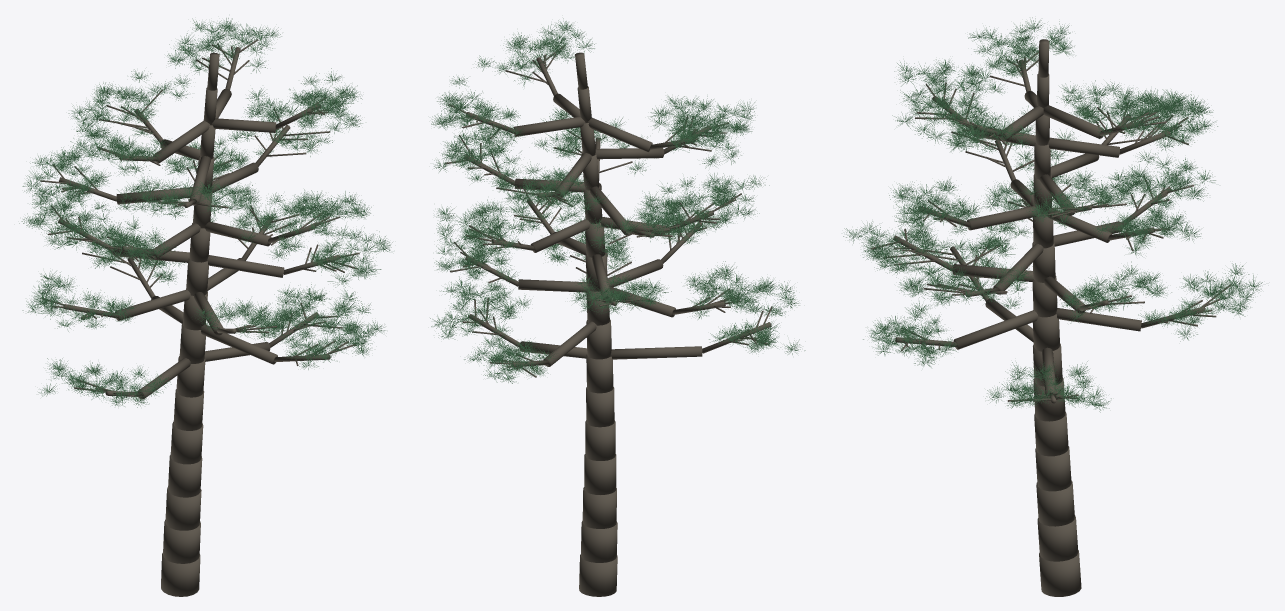
File: Production_CoastalPine_0.glb
3 renders of one model, left to right at view 1: azimuth 30°, elevation 25°; view 2: azimuth 150°, elevation 25°; view 3: azimuth 270°, elevation 25°, orthographic. The views are drawn at different scales.
Visible parts, largest first — view 1: Production_CoastalPine_0_Landscape_Needles, Production_CoastalPine_0_Landscape_PineBark; view 2: Production_CoastalPine_0_Landscape_Needles, Production_CoastalPine_0_Landscape_PineBark; view 3: Production_CoastalPine_0_Landscape_Needles, Production_CoastalPine_0_Landscape_PineBark.
Boxes of the visible parts, box(x1,y1,x2,y2) form: Production_CoastalPine_0_Landscape_Needles: box(19, 18, 392, 407); Production_CoastalPine_0_Landscape_PineBark: box(40, 39, 359, 596); Production_CoastalPine_0_Landscape_Needles: box(430, 18, 805, 383); Production_CoastalPine_0_Landscape_PineBark: box(444, 45, 772, 596); Production_CoastalPine_0_Landscape_Needles: box(843, 17, 1262, 412); Production_CoastalPine_0_Landscape_PineBark: box(871, 39, 1230, 596).
Size of the model in its own units: 7.32 by 10.53 by 7.35.
